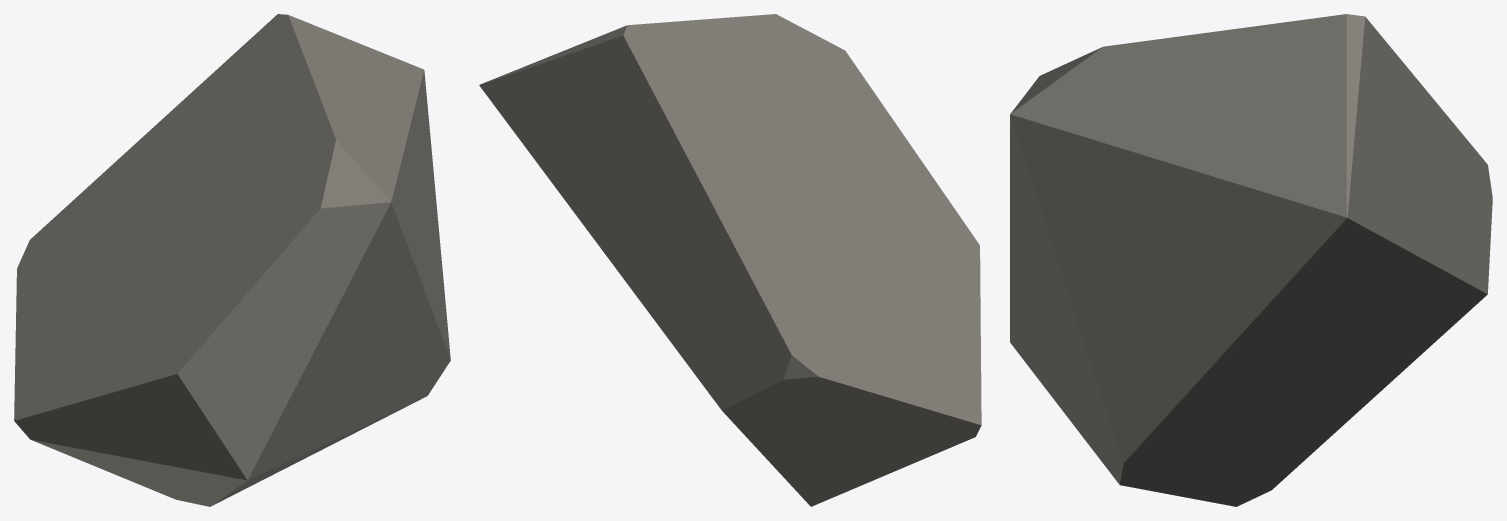
File: rock_07.fbx
3 renders of one model, left to right at view 1: azimuth 30°, elevation 25°; view 2: azimuth 150°, elevation 25°; view 3: azimuth 270°, elevation 25°, orthographic. The views are drawn at different scales.
Visible parts, largest first — view 1: rock_07; view 2: rock_07; view 3: rock_07.
Part boxes in pixels (x1,y1,x2,y2): rock_07: (14,14,450,506); rock_07: (479,14,981,506); rock_07: (1010,14,1492,506).
Size of the model in its own units: 55.78 by 52.84 by 40.54.
1 material, 1 textured.
